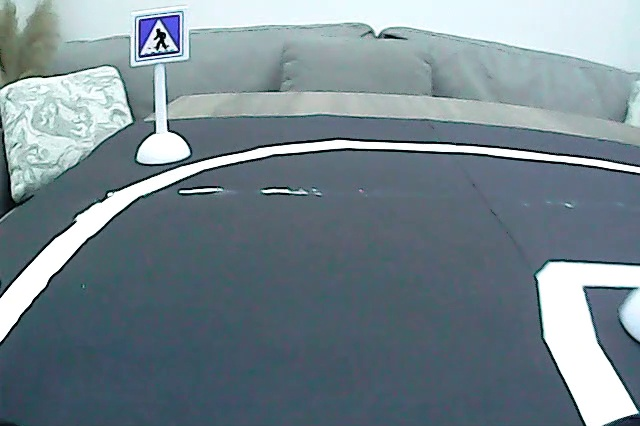pedestrian crossing: (136, 13, 185, 61)
